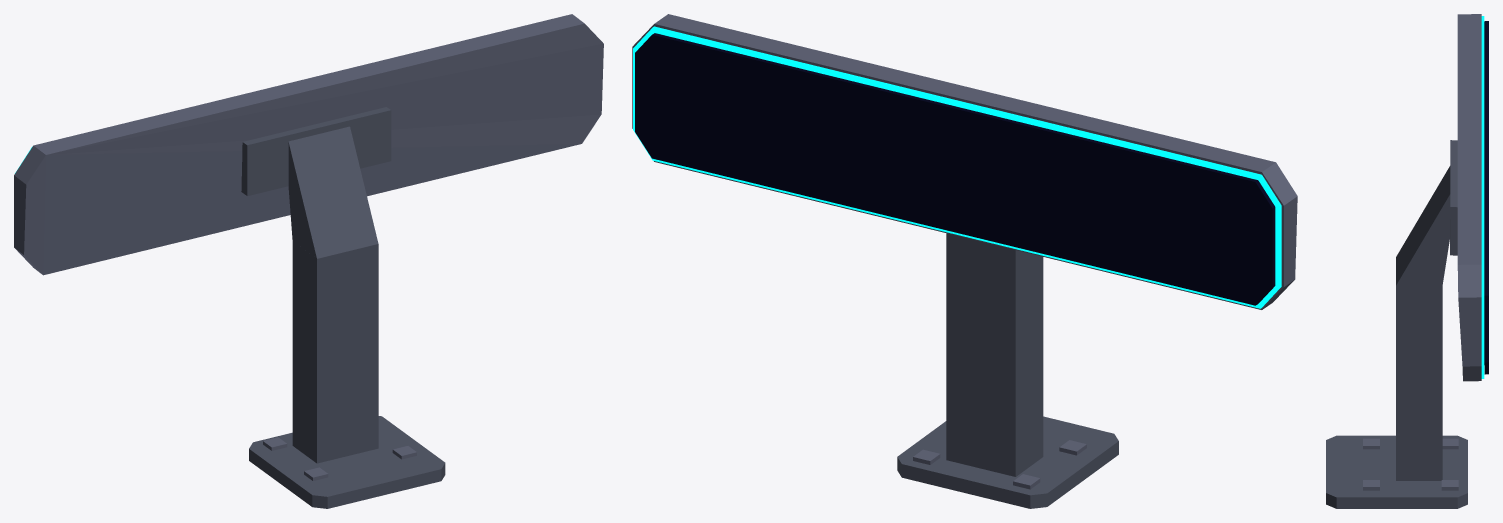
The model's file is nav_panel_high_2.glb.
The picture shows the model from 3 angles, left to right: view 1: azimuth 30°, elevation 25°; view 2: azimuth 150°, elevation 25°; view 3: azimuth 270°, elevation 25°; orthographic projection. The views are drawn at different scales.
Parts seen in each view (by area): view 1: single-piece low-poly chamfered console body.001, central rectangular pedestal support.001, central rectangular pedestal support.002, chamfered floor mounting plate.001, angled top mounting bracket.001; view 2: single-piece low-poly chamfered console body.003, central rectangular pedestal support.001, single-piece low-poly chamfered console body.001, chamfered floor mounting plate.001, single-piece low-poly chamfered console body.002; view 3: central rectangular pedestal support.001, single-piece low-poly chamfered console body.001, chamfered floor mounting plate.001, central rectangular pedestal support.002, single-piece low-poly chamfered console body.003, single-piece low-poly chamfered console body.002, angled top mounting bracket.001, low-poly bolt pad -1,-1.001, low-poly bolt pad -1,1.001.
Boxes of the visible parts, x1=… form: single-piece low-poly chamfered console body.001: x1=14, y1=14, x2=603, y2=275; central rectangular pedestal support.001: x1=292, y1=241, x2=378, y2=463; central rectangular pedestal support.002: x1=288, y1=126, x2=378, y2=258; chamfered floor mounting plate.001: x1=249, y1=416, x2=445, y2=508; angled top mounting bracket.001: x1=241, y1=107, x2=391, y2=196; single-piece low-poly chamfered console body.003: x1=635, y1=33, x2=1275, y2=305; central rectangular pedestal support.001: x1=946, y1=233, x2=1043, y2=476; single-piece low-poly chamfered console body.001: x1=632, y1=14, x2=1297, y2=309; chamfered floor mounting plate.001: x1=897, y1=416, x2=1118, y2=508; single-piece low-poly chamfered console body.002: x1=633, y1=26, x2=1281, y2=308; central rectangular pedestal support.001: x1=1396, y1=285, x2=1442, y2=480; single-piece low-poly chamfered console body.001: x1=1457, y1=14, x2=1481, y2=381; chamfered floor mounting plate.001: x1=1326, y1=435, x2=1467, y2=508; central rectangular pedestal support.002: x1=1396, y1=166, x2=1450, y2=285; single-piece low-poly chamfered console body.003: x1=1484, y1=21, x2=1488, y2=374; single-piece low-poly chamfered console body.002: x1=1481, y1=16, x2=1484, y2=378; angled top mounting bracket.001: x1=1450, y1=140, x2=1457, y2=255; low-poly bolt pad -1,-1.001: x1=1363, y1=438, x2=1379, y2=449; low-poly bolt pad -1,1.001: x1=1442, y1=438, x2=1458, y2=449.
Bounding box in the file's own units: 5.99 × 3.52 × 1.54.
